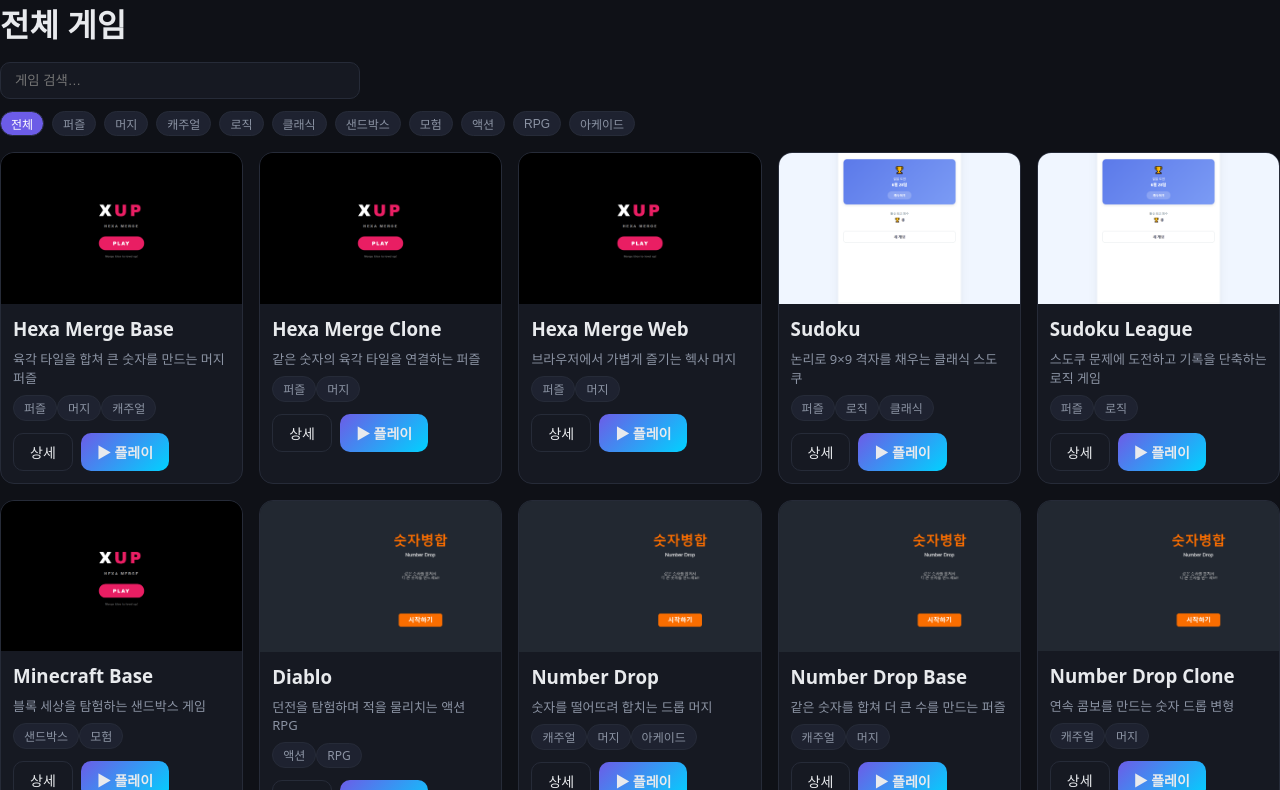
Test: GamesList › 검색어로 게임을 필터한다
Expected: the heading "Sudoku" is shown, [791,316,860,341]
Type "hexa" into the search field labelled "게임 검색" at (180, 80), box [0,62,360,99]
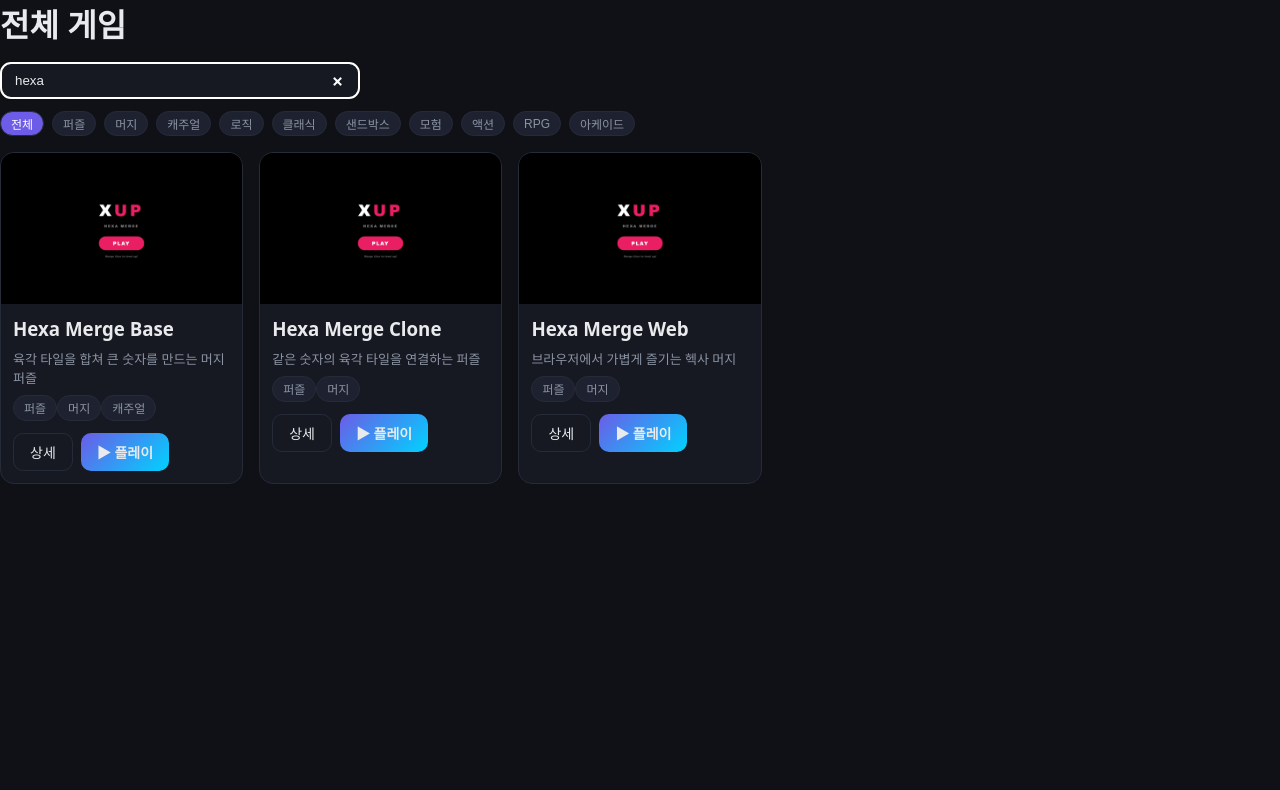
Expected: the heading "Hexa Merge Base" is shown, [13,316,174,341]
Result: the heading "Sudoku" is gone
